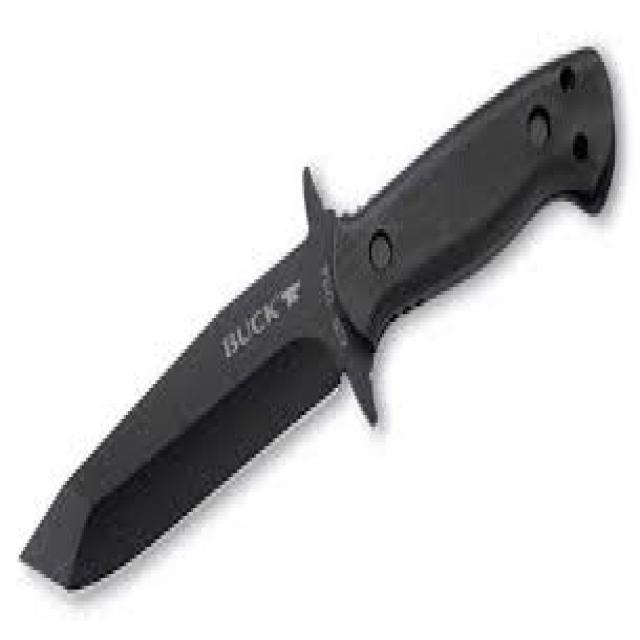knife: (12, 39, 623, 597)
